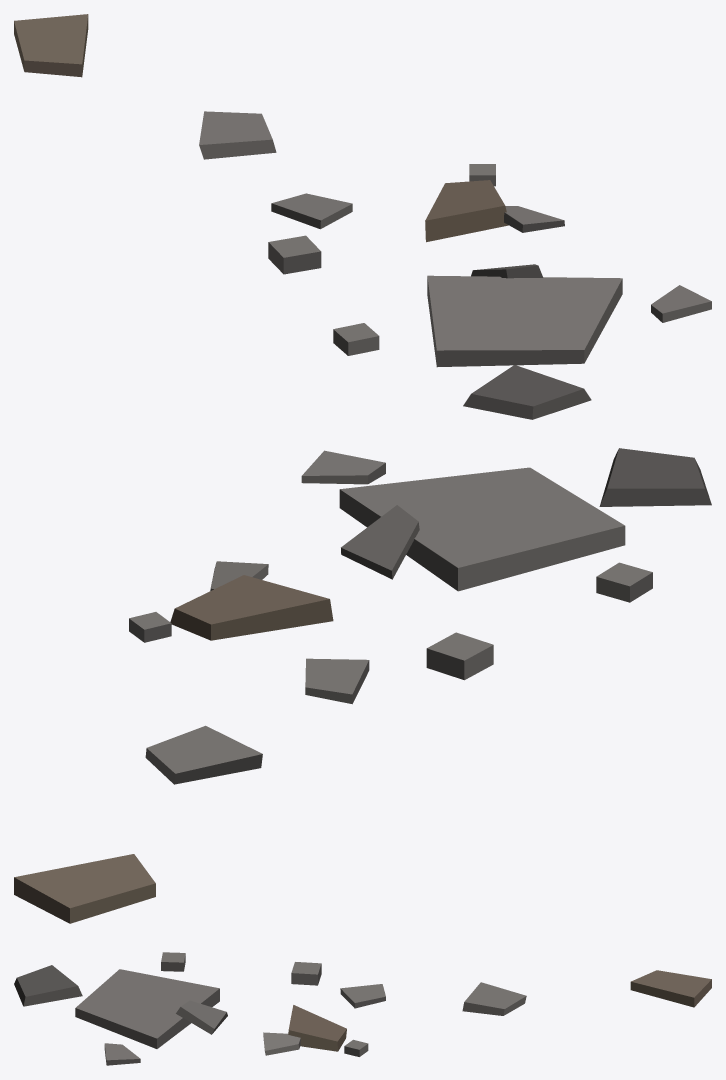
File: AI_Env_GroundDirt_07.fbx
3 views of the same model, one above another, from view 1: azimuth 30°, elevation 25°; view 2: azimuth 150°, elevation 25°; view 3: azimuth 270°, elevation 25° (orthographic). The views are drawn at different scales.
Visible parts, largest first — view 1: AI_Env_GroundDirt_07; view 2: AI_Env_GroundDirt_07; view 3: AI_Env_GroundDirt_07.
Boxes of the visible parts, <box> form: AI_Env_GroundDirt_07: <box>14,14,711,419</box>; AI_Env_GroundDirt_07: <box>14,448,711,923</box>; AI_Env_GroundDirt_07: <box>14,952,711,1065</box>.
Size of the model in its own units: 1.42 by 0.1353 by 4.04.
